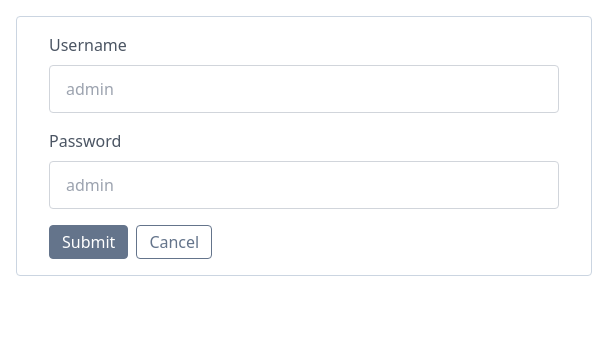
it: <SignInForm /> › should show validation error
Click the button "Submit" at (89, 242), box top-left (49, 225), bottom-right (128, 259)
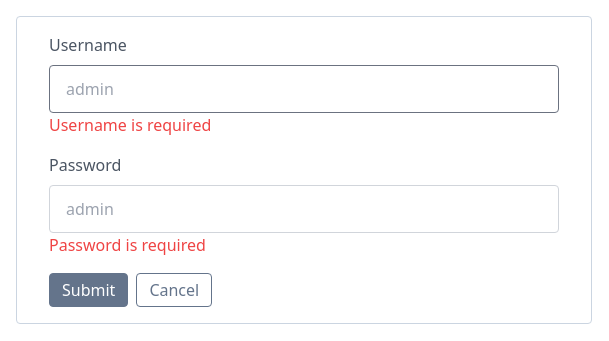
Check: the text "Username is required" is shown, box top-left (49, 114), bottom-right (211, 136)
